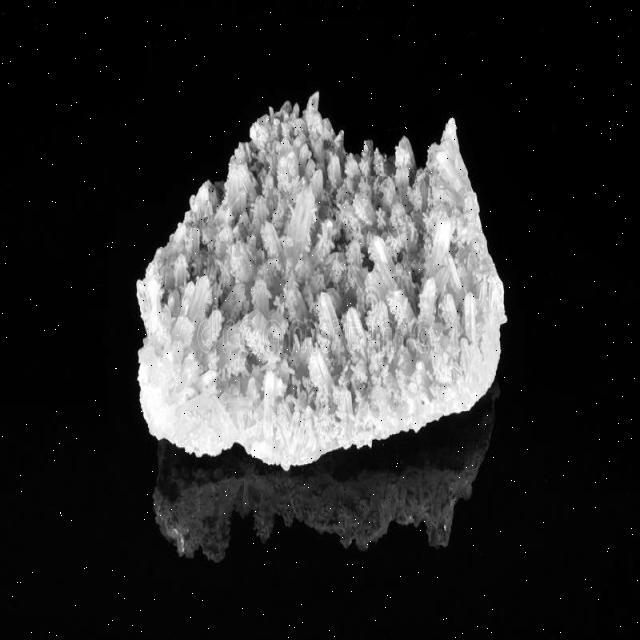Sedimentary: (134, 84, 532, 480)
